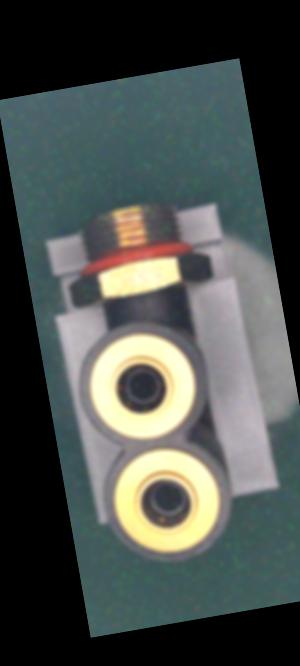joint line: (137, 305, 147, 324)
